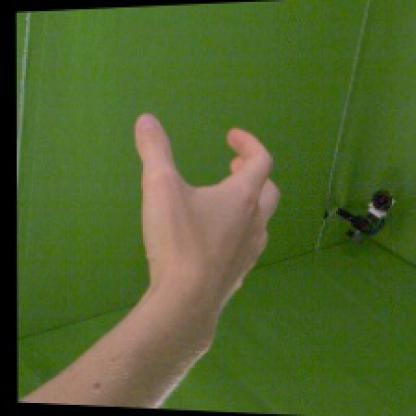Hand: (135, 113, 282, 318)
